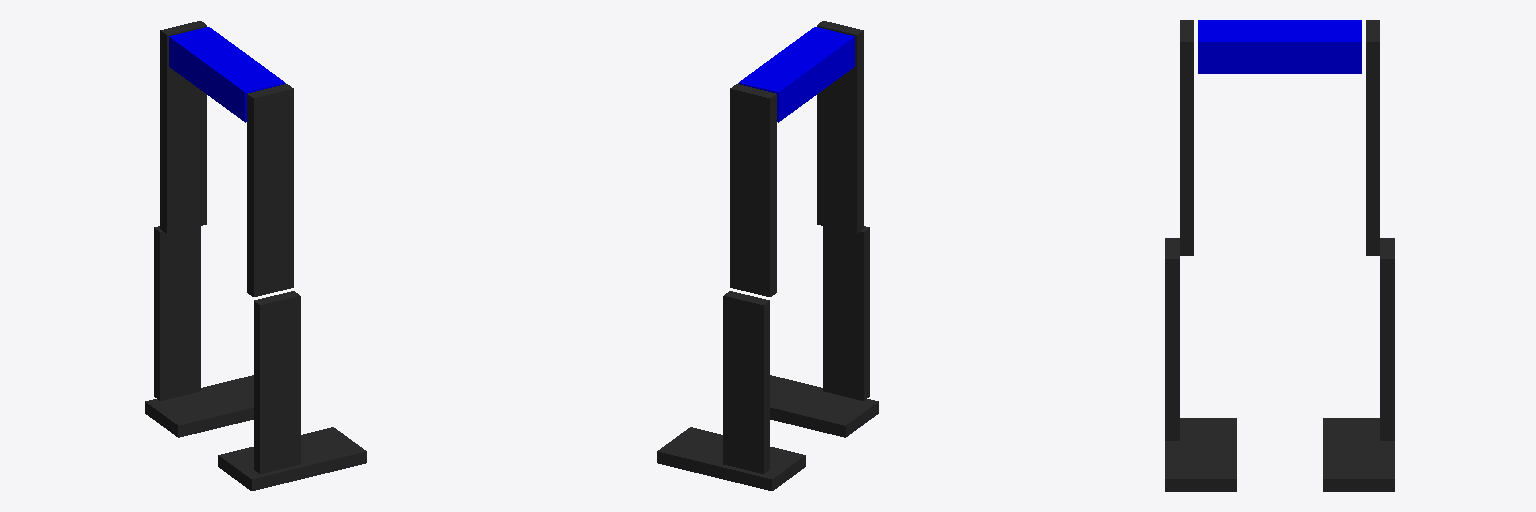
URDF robot description (Exosquelette):
<?xml version="1.0" ?> 
<robot name="Exosquelette">

 <link name="world"/>
 <joint name="joint_base" type="fixed">
 <origin xyz="0 0 0" rpy="0 0 0"/>
 <parent link="world"/>
 <child link="base_link"/>
 </joint>

 <link name="base_link">
      <visual>
   <origin xyz="0 0 0.885" rpy="0 0 0"/>
    <geometry>
    <box size="0.07 0.23 0.05"/>              
     </geometry>
     <material name="blue">
     <color rgba="0 0 1 1"/>              
     </material>
    </visual>    
  <collision>
    <origin xyz="0 0 0.885" rpy="0 0 0"/>
    <geometry>
     <box size="0.07 0.23 0.05"/>              
      </geometry>
</collision>
<inertial>
<mass value="0.4"/>
<inertia ixx="0.015" ixy="00" ixz="0" iyy="0.0086" iyz="0" izz="0.007"/> 
</inertial>
</link>

<joint name="joint_left_hip_AA" type="revolute">
<parent link="base_link"/>
<child link="base_link_dummy"/>
 <origin xyz="0 0.25 0.885" rpy="0 0 0"/>
<axis xyz="-1 0 0"/>
 <limit effort="30" velocity="1.0" lower="-2" upper="2" />
</joint>

 <link name="base_link_dummy">
<inertial>
<origin xyz="0 0 0" rpy="0 0 0"/>
<mass value="0.4"/>
<inertia ixx="0.00000001" ixy="00" ixz="0" iyy="0.00000001" iyz="0" izz="0.00000001"/> 
</inertial>
</link>

<joint name="joint_left_hip_T" type="revolute">
<parent link="base_link_dummy"/>
<child link="base_link_dummy2"/>
 <origin xyz="0 0 0" rpy="0 0 0"/>
<axis xyz="0 0 -1"/>
 <limit effort="30" velocity="1.0" lower="-2" upper="2" />
</joint>

 <link name="base_link_dummy2">
<inertial>
<origin xyz="0 0 0" rpy="0 0 0"/>
<mass value="0.4"/>
<inertia ixx="0.00000001" ixy="00" ixz="0" iyy="0.00000001" iyz="0" izz="0.00000001"/> 
</inertial>
</link>

<joint name="joint_left_hip_FE" type="revolute">
<parent link="base_link_dummy2"/>
<child link="left_femur"/>
 <origin xyz="0 0 0" rpy="0 0 0"/>
<axis xyz="0 -1 0"/>
 <limit effort="30" velocity="1.0" lower="-2" upper="2" />
</joint>

<!-- left femur-->
 <link name="left_femur">
    <visual>
      <origin xyz="0 -0.12 -0.14" rpy="0 0 0"/>
      <geometry>
 <box size="0.07 0.02 0.33"/>         
</geometry> 
<material name="darkgray">
    <color rgba=".2 .2 .2 1"/>
    </material>
     </visual>
    <collision>
          <origin xyz="0 -0.025 -0.14" rpy="0 0 0"/>
          <geometry>
            <box size="0.07 0.02 0.33"/>         
      </geometry>  
</collision>
<inertial>
          <mass value="0.5"/>
          <inertia ixx="0.01" ixy="0" ixz="0" iyy="0.01" iyz="0" izz="0.00052"/>
</inertial>
</link>

<joint name="joint_left_knee_FE" type="revolute">
<parent link="left_femur"/>
<child link="left_leg"/>
<origin xyz="0 0.02 -0.35" rpy="0 0 0"/>
 <axis xyz="0 -1 0"/>
 <limit effort="30" velocity="1.0" lower="-2" upper="0" />
</joint>


 <!-- left Leg-->
<link name="left_leg">
    <visual>
      <origin xyz="0 -0.12 -.10" rpy="0 0 0"/>
      <geometry>
       <box size="0.07 0.02 0.28"/>         
      </geometry> 
<material name="darkgray">
<color rgba=".2 .2 .2 1"/>
</material>
    </visual>
<collision>
          <origin xyz="0 -0.09 -0.10" rpy="0 0 0"/>
          <geometry>
            <box size="0.07 0.02 0.28"/>         
      </geometry>  
</collision>
<inertial>
          <mass value="0.5"/>
          <inertia ixx="0.0085" ixy="0" ixz="0" iyy="0.0088" iyz="0" izz="0.0005"/>
</inertial>
</link>

<joint name="joint_left_foot_AA" type="revolute">
<parent link="left_leg"/>
<child link="left_foot_dummy"/>
 <origin xyz="-0.10 -0.13 -0.325" rpy="0 0 0"/>
 <limit effort="30" velocity="1.0" lower="-0.1" upper="0.1" />
 <axis xyz="-1 0 0"/>
 </joint>

<link name="left_foot_dummy">
    <inertial>
      <origin xyz="0 0 0" rpy="0 0 0"/>
      <mass value="0"/>
      <inertia ixx="0.00000001" ixy="0" ixz="0" iyy="0.00000001" iyz="0" izz="0.00000001"/>
</inertial>
</link>

<joint name="joint_left_foot_FE" type="revolute">
<parent link="left_foot_dummy"/>
<child link="left_foot"/>
 <origin xyz="0 0 0" rpy="0 0 0"/>
 <limit effort="30" velocity="1.0" lower="-0.1" upper="0.1" />
 <axis xyz="0 -1 0"/>
 </joint>


<link name="left_foot">
    <visual>
      <origin xyz="0.15 -0.03 0.07" rpy="0 0 0"/>
        <geometry>
              <box size="0.20 0.1 0.02"/>         
        </geometry> 
        <material name="darkgray">
          <color rgba=".2 .2 .2 1"/>
        </material>
    </visual>
    <collision>
      <origin xyz="0.15 -0.03 0.07" rpy="0 0 0"/>
        <geometry>
          <box size="0.20 0.1 0.02"/>         
        </geometry>  
    </collision>
    <inertial>
      <mass value="0.2"/>
      <inertia ixx="0.0008" ixy="0" ixz="0" iyy="0.0015" iyz="0" izz="0.0015"/>
</inertial>
</link>


<!-- right Leg-->

<joint name="joint_right_hip_AA" type="revolute">
<parent link="base_link"/>
<child link="base_link_dummy3"/>
<origin xyz="0 -0.25 0.885" rpy="0 0 0"/>
<axis xyz="-1 0 0"/>
 <limit effort="30" velocity="1.0" lower="-2" upper="2" />
</joint>

 <link name="base_link_dummy3">
<inertial>
<origin xyz="0 0 0" rpy="0 0 0"/>
<mass value="0.4"/>
<inertia ixx="0.00000001" ixy="00" ixz="0" iyy="0.00000001" iyz="0" izz="0.00000001"/> 
</inertial>
</link>

<joint name="joint_right_hip_T" type="revolute">
<parent link="base_link_dummy3"/>
<child link="base_link_dummy4"/>
<origin xyz="0 0 0" rpy="0 0 0"/>
<axis xyz="0 0 1"/>
 <limit effort="30" velocity="1.0" lower="-2" upper="2" />
</joint>

 <link name="base_link_dummy4">
<inertial>
<origin xyz="0 0 0" rpy="0 0 0"/>
<mass value="0.4"/>
<inertia ixx="0.00000001" ixy="00" ixz="0" iyy="0.00000001" iyz="0" izz="0.00000001"/> 
</inertial>
</link>

<joint name="joint_right_hip_FE" type="revolute">
<parent link="base_link_dummy4"/>
<child link="right_femur"/>
<origin xyz="0 0 0" rpy="0 0 0"/>
<axis xyz="0 -1 0"/>
 <limit effort="30" velocity="1.0" lower="-2" upper="2" />
</joint>

<!-- right femur-->
 <link name="right_femur">
    <visual>
      <origin xyz="0 0.12 -0.14" rpy="0 0 0"/>
      <geometry>
       <box size="0.07 0.02 0.33"/>         
      </geometry> 
<material name="darkgray">
<color rgba=".2 .2 .2 1"/>
</material>
    </visual>
<collision>
          <origin xyz="0 0.09 -0.14" rpy="0 0 0"/>
          <geometry>
            <box size="0.07 0.02 0.33"/>         
      </geometry>  
</collision>
<inertial>
          <mass value="0.5"/>
          <inertia ixx="0.01" ixy="0" ixz="0" iyy="0.01" iyz="0" izz="0.0005"/>
</inertial>
</link>


<joint name="joint_right_knee_FE" type="revolute">
<parent link="right_femur"/>
<child link="right_leg"/>
 <origin xyz="0 -0.02 -0.35" rpy="0 0 0"/>
<axis xyz="0 -1 0"/>
<limit effort="30" velocity="1.0" lower="-2" upper="0" />
</joint>

<link name="right_leg">
    <visual>
      <origin xyz="0 0.12 -0.1" rpy="0 0 0"/>
      <geometry>
            <box size="0.07 0.02 0.28"/>         
      </geometry> 
<material name="darkgray">
<color rgba=".2 .2 .2 1"/>
</material>
    </visual>
<collision>
          <origin xyz="0 0.09 -0.1" rpy="0 0 0"/>
          <geometry>
            <box size="0.07 0.02 0.28"/>
      </geometry>  
</collision>
<inertial>
          <mass value="0.5"/>
          <inertia ixx="0.085" ixy="0" ixz="0" iyy="0.0088" iyz="0" izz="0.0005"/>
</inertial>
</link>

<joint name="joint_right_foot_AA" type="revolute">
<parent link="right_leg"/>
<child link="right_foot_dummy"/>
<origin xyz="-0.10 0.13 -0.325" rpy="0 0 0"/>
 <limit effort="30" velocity="1.0" lower="0" upper="0" />
<axis xyz="-1 0 0"/>
</joint>

<link name="right_foot_dummy">
<inertial>
          <origin xyz=" 0 0 0" rpy="0 0 0"/>
          <mass value="0"/>
          <inertia ixx="0.00000001" ixy="0" ixz="0" iyy="0.00000001" iyz="0" izz="0.00000001"/>
</inertial>
</link>

<joint name="joint_right_foot_FE" type="revolute">
<parent link="right_foot_dummy"/>
<child link="right_foot"/>
<origin xyz="0 0 0" rpy="0 0 0"/>
 <limit effort="30" velocity="1.0" lower="0" upper="0" />
<axis xyz="0 -1 0"/>
</joint>

<link name="right_foot">
    <visual>
      <origin xyz=" 0.15 0.03 0.07" rpy="0 0 0"/>
      <geometry>
            <box size="0.2 0.1 0.02"/>
      </geometry> 
 <material name="darkgray">
<color rgba=".2 .2 .2 1"/>
</material>
    </visual>
<collision>
           <origin xyz="0.15 0.03 0.07" rpy="0 0 0"/>
          <geometry>
            <box size="0.2 0.1 0.02"/>         
      </geometry>  
</collision>
<inertial>
          <mass value="0.2"/>
          <inertia ixx="0.0008" ixy="0" ixz="0" iyy="0.0015" iyz="0" izz="0.0015"/>
</inertial>
</link>

<transmission name="tran1">
<type>transmission_interface/SimpleTransmission</type>
<joint name="joint_left_hip">
  <hardwareInterface>EffortJointInterface</hardwareInterface>
</joint>
<actuator name="motor1">
  <hardwareInterface>EffortJointInterface</hardwareInterface>
  <mechanicalReduction>1</mechanicalReduction>
 </actuator>
</transmission>

<transmission name="tran2">
<type>transmission_interface/SimpleTransmission</type>
<joint name="joint_right_hip">
  <hardwareInterface>EffortJointInterface</hardwareInterface>
</joint>
<actuator name="motor2">
  <hardwareInterface>EffortJointInterface</hardwareInterface>
  <mechanicalReduction>1</mechanicalReduction>
</actuator>
 </transmission>

<transmission name="tran3">
<type>transmission_interface/SimpleTransmission</type>
<joint name="joint_left_knee">
  <hardwareInterface>EffortJointInterface</hardwareInterface>
</joint>
<actuator name="motor3">
  <hardwareInterface>EffortJointInterface</hardwareInterface>
  <mechanicalReduction>1</mechanicalReduction>
 </actuator>
  </transmission>

   <transmission name="tran4">
  <type>transmission_interface/SimpleTransmission</type>
  <joint name="joint_right_knee">
  <hardwareInterface>EffortJointInterface</hardwareInterface>
  </joint>
  <actuator name="motor4">
  <hardwareInterface>EffortJointInterface</hardwareInterface> 
    <mechanicalReduction>1</mechanicalReduction>
  </actuator>
 </transmission>

 <transmission name="tran5">
<type>transmission_interface/SimpleTransmission</type>
<joint name="joint_left_foot">
  <hardwareInterface>EffortJointInterface</hardwareInterface>
</joint>
<actuator name="motor5">
  <hardwareInterface>EffortJointInterface</hardwareInterface>
  <mechanicalReduction>1</mechanicalReduction>
 </actuator>
  </transmission>

   <transmission name="tran6">
  <type>transmission_interface/SimpleTransmission</type>
  <joint name="joint_right_foot">
  <hardwareInterface>EffortJointInterface</hardwareInterface>
  </joint>
  <actuator name="motor5">
  <hardwareInterface>EffortJointInterface</hardwareInterface> 
    <mechanicalReduction>1</mechanicalReduction>
  </actuator>
 </transmission>



 </robot>

--- What the picture shows (computed from the rendered views, not written in the file) ---
The picture shows the robot from 3 angles, left to right: view 1: azimuth 30°, elevation 25°; view 2: azimuth 150°, elevation 25°; view 3: azimuth 270°, elevation 25°; orthographic projection.
Model Exosquelette with 14 links and 13 joints (12 revolute, 1 fixed), rooted at world, posed all joints at 0.
Links seen in each view (by area): view 1: right_femur, right_leg, left_leg, left_femur, base_link, right_foot, left_foot; view 2: left_femur, left_leg, right_leg, right_femur, base_link, left_foot, right_foot; view 3: base_link, left_foot, right_foot, left_femur, right_femur, left_leg, right_leg.
Boxes of the visible links, bbox=[...] form: right_femur: bbox=[247, 84, 293, 296]; right_leg: bbox=[254, 291, 300, 473]; left_leg: bbox=[154, 226, 200, 400]; left_femur: bbox=[160, 21, 206, 233]; base_link: bbox=[169, 27, 285, 122]; right_foot: bbox=[218, 427, 366, 490]; left_foot: bbox=[145, 375, 253, 437]; left_femur: bbox=[730, 84, 776, 296]; left_leg: bbox=[723, 291, 769, 473]; right_leg: bbox=[823, 226, 869, 400]; right_femur: bbox=[817, 21, 863, 233]; base_link: bbox=[738, 27, 854, 122]; left_foot: bbox=[657, 427, 805, 490]; right_foot: bbox=[770, 375, 878, 437]; base_link: bbox=[1198, 20, 1361, 73]; left_foot: bbox=[1323, 418, 1394, 491]; right_foot: bbox=[1165, 418, 1236, 491]; left_femur: bbox=[1366, 20, 1379, 255]; right_femur: bbox=[1180, 20, 1193, 255]; left_leg: bbox=[1380, 238, 1394, 440]; right_leg: bbox=[1165, 238, 1179, 440].
Size in the robot's own frame: 0.2 by 0.32 by 0.64 metres.
Geometry: primitives only (box / cylinder / sphere), no mesh files.